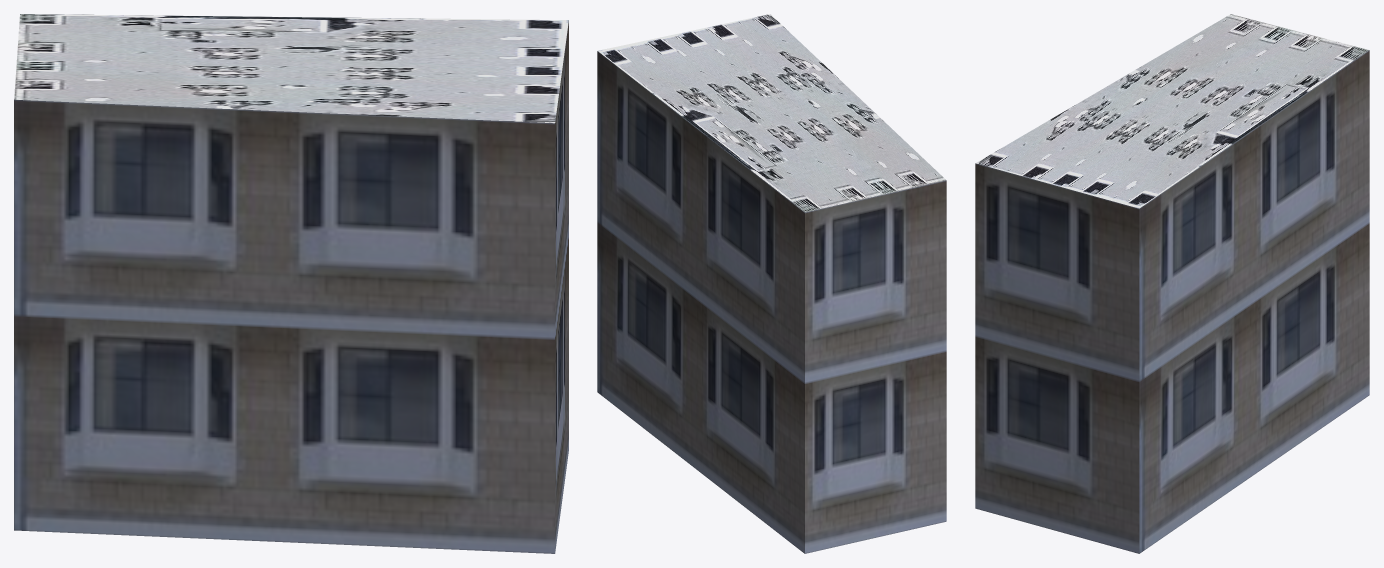
Rendered from ResTex__3181.fbx.
3 renders of one model, left to right at view 1: azimuth 30°, elevation 25°; view 2: azimuth 150°, elevation 25°; view 3: azimuth 270°, elevation 25°, orthographic. The views are drawn at different scales.
Visible parts, largest first — view 1: CityEngineMaterial_3_m, CityEngineMaterial_m; view 2: CityEngineMaterial_3_m, CityEngineMaterial_m; view 3: CityEngineMaterial_3_m, CityEngineMaterial_m.
Boxes of the visible parts, x1,y1,x2,y2 form: CityEngineMaterial_3_m: (14,21,568,553); CityEngineMaterial_m: (14,14,568,123); CityEngineMaterial_3_m: (597,51,946,553); CityEngineMaterial_m: (598,14,945,212); CityEngineMaterial_3_m: (975,50,1369,553); CityEngineMaterial_m: (976,14,1368,208).
Bounding box in the file's own units: 7.26 × 6 × 6.21.
2 materials, 2 textured.
